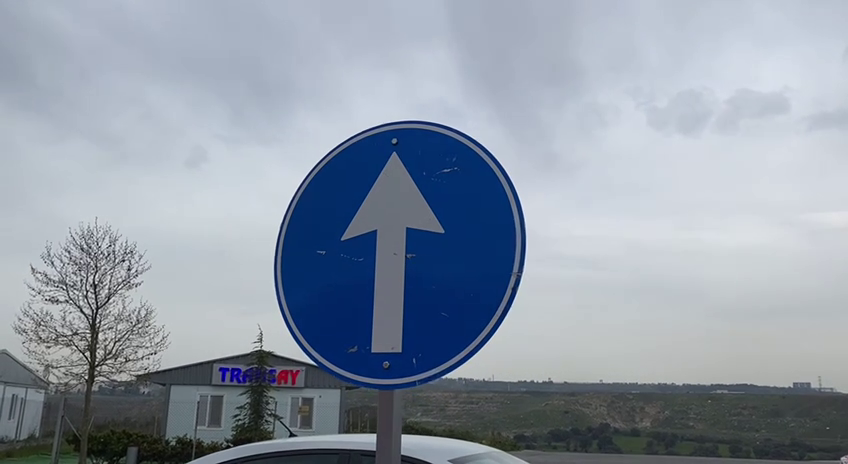forward: (271, 119, 536, 392)
